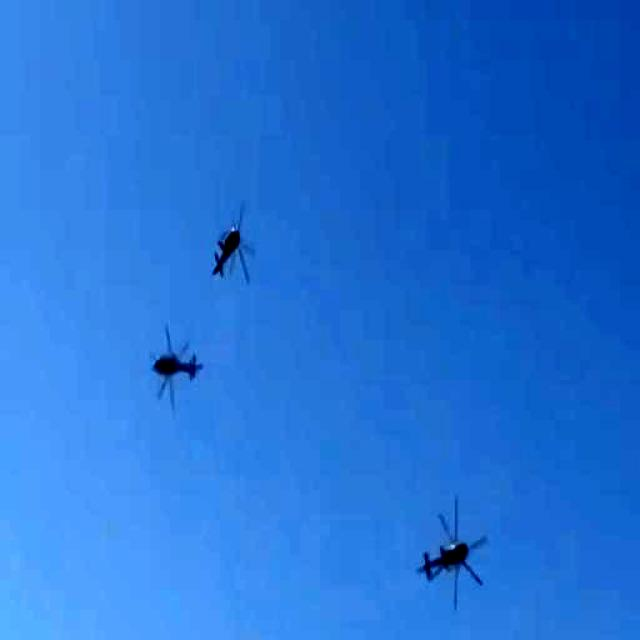drone: (416, 496, 494, 618), (150, 330, 206, 401), (212, 211, 249, 282)
